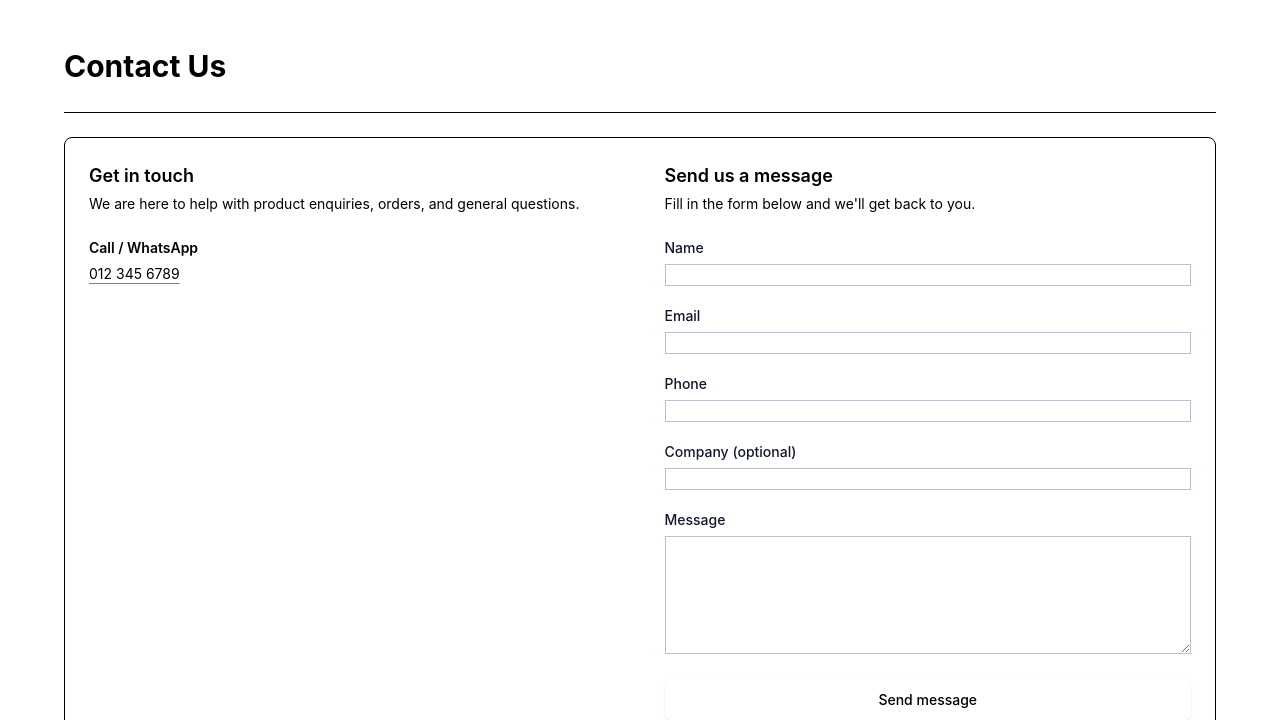
ContactUsPage › form submission (Req 4.2, 4.3) › shows success state and clears form inputs after successful submit
Type "Jane Doe" into the field labelled "Name".
click(928, 275); type("Jane Doe")  # box [664,264,1191,286]
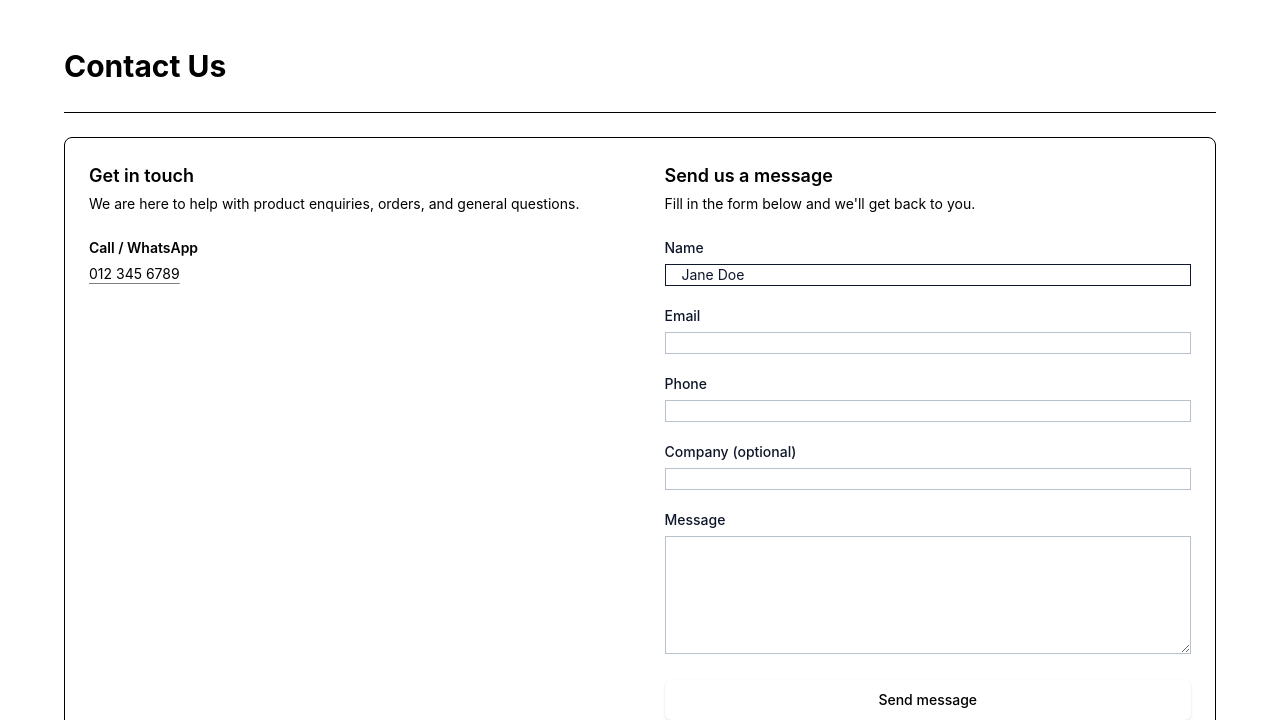
Type "jane@example.com" into the field labelled "Email".
click(928, 343); type("jane@example.com")  # box [664,332,1191,354]
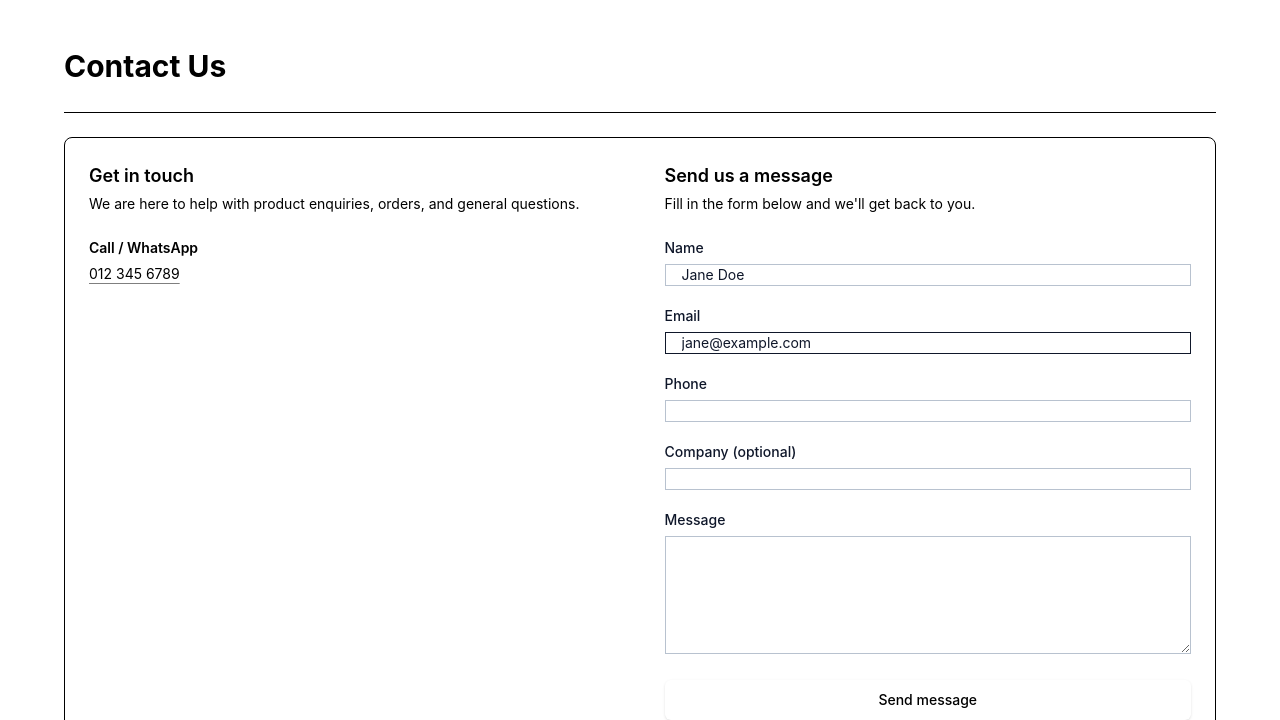
Type "0821234567" into the field labelled "Phone".
click(928, 411); type("0821234567")  # box [664,400,1191,422]
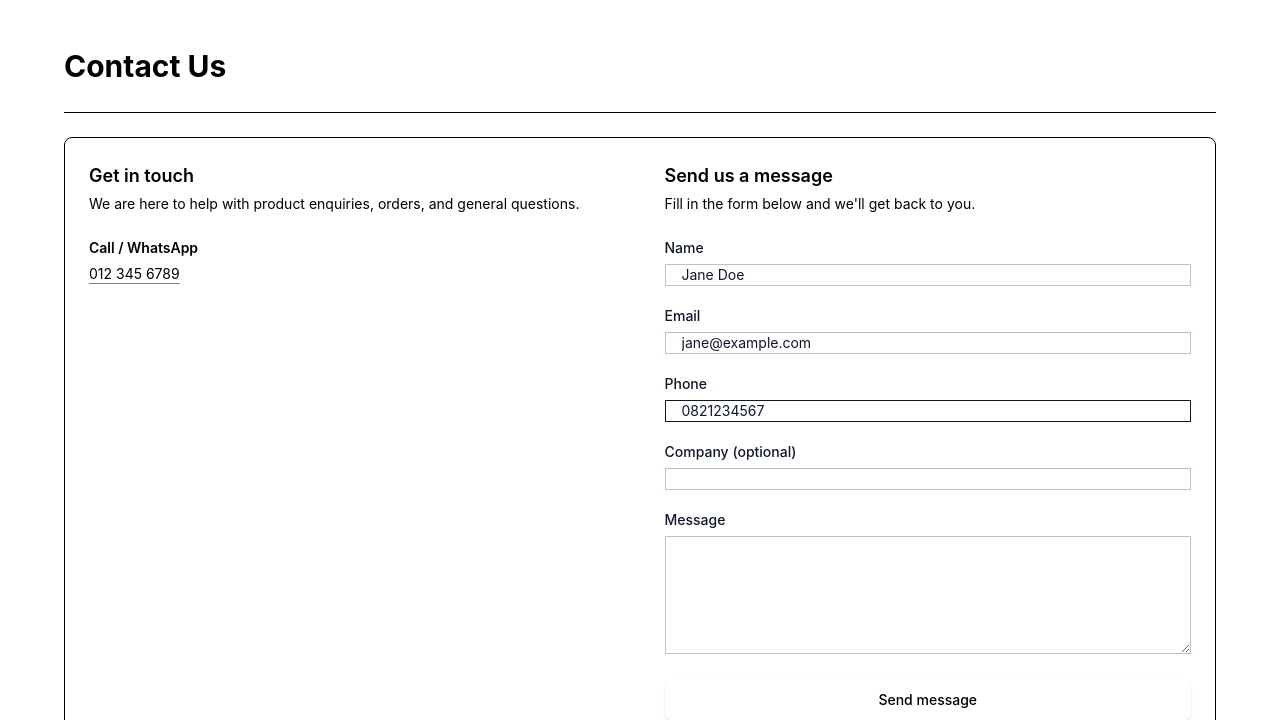
Type "Hello!" into the text box labelled "Message".
click(928, 595); type("Hello!")  # box [664,536,1191,654]
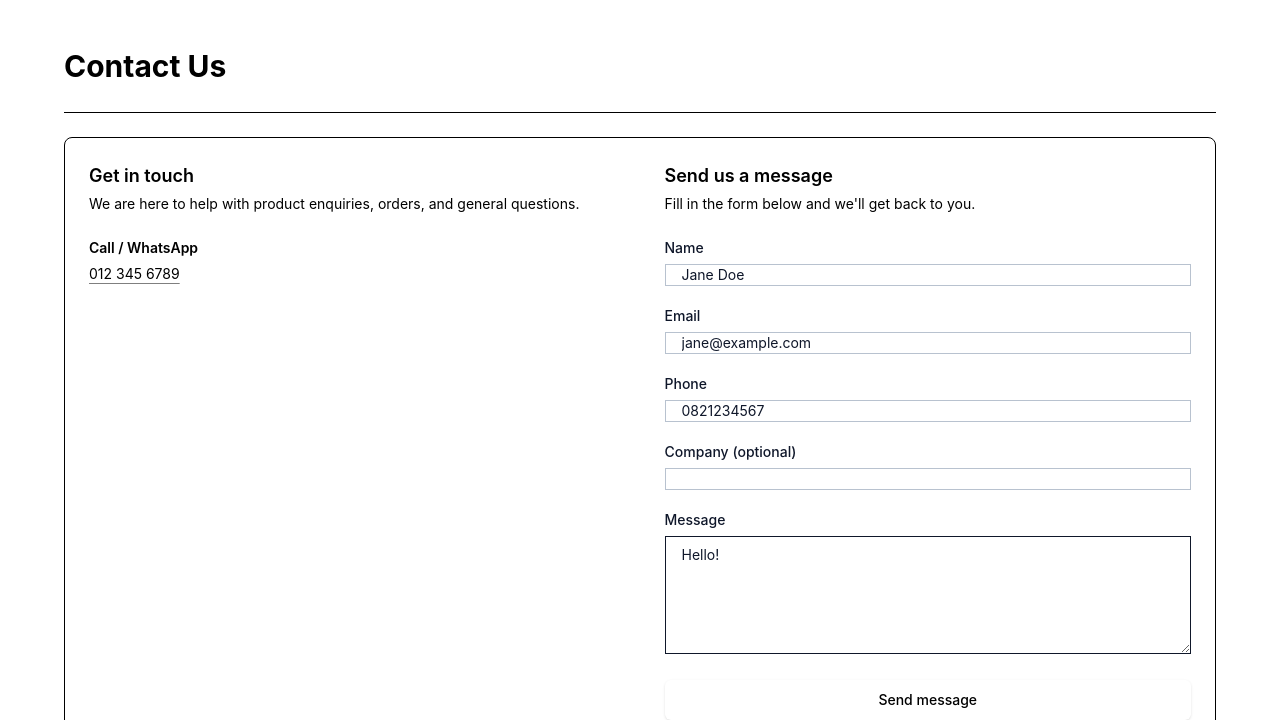
Click the button "Send message".
click(928, 700)  # box [664,680,1191,719]
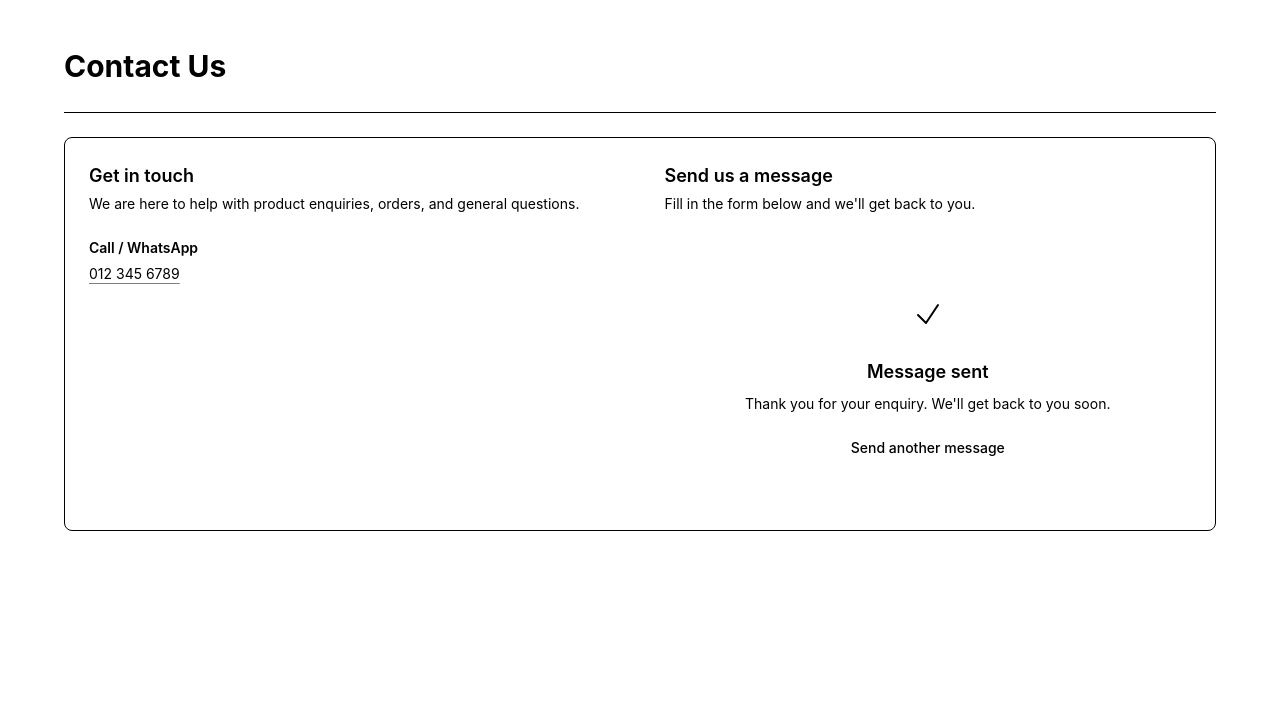
Now the heading "Message sent" is shown, box [867,358,989,386]
Now the label labelled "Name" is gone
